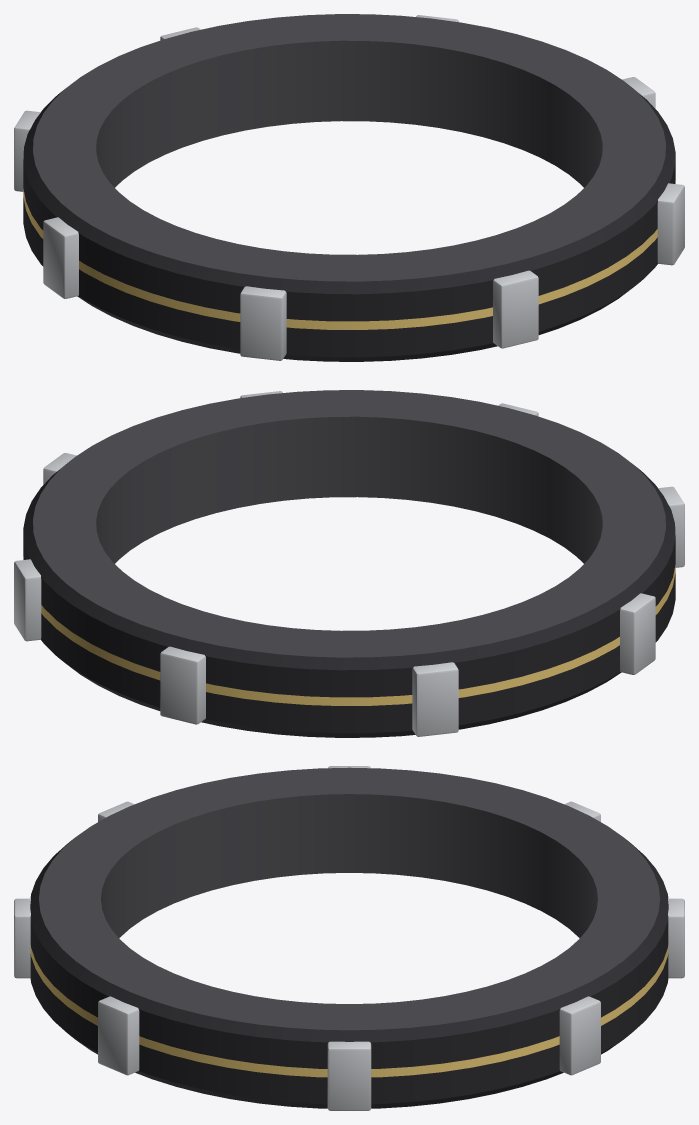
The model's file is decoupler_l.glb.
3 renders of one model, top to bottom at view 1: azimuth 30°, elevation 25°; view 2: azimuth 150°, elevation 25°; view 3: azimuth 270°, elevation 25°, orthographic.
Parts seen in each view (by area): view 1: decoupler_l; view 2: decoupler_l; view 3: decoupler_l.
Boxes of the visible parts, bbox=[...] form: decoupler_l: bbox=[14, 14, 684, 361]; decoupler_l: bbox=[14, 390, 684, 737]; decoupler_l: bbox=[14, 766, 684, 1110].
Size of the model in its own units: 2.7 by 0.35 by 2.7.
